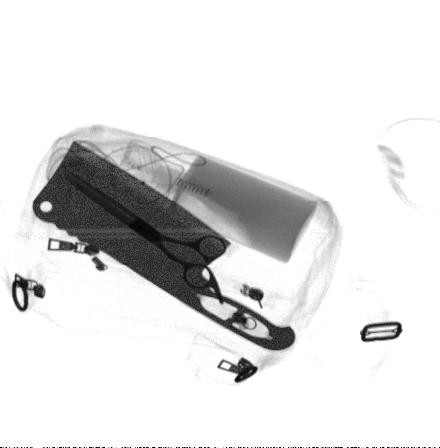Knife: (32, 140, 296, 353)
Scissors: (62, 171, 228, 306)
